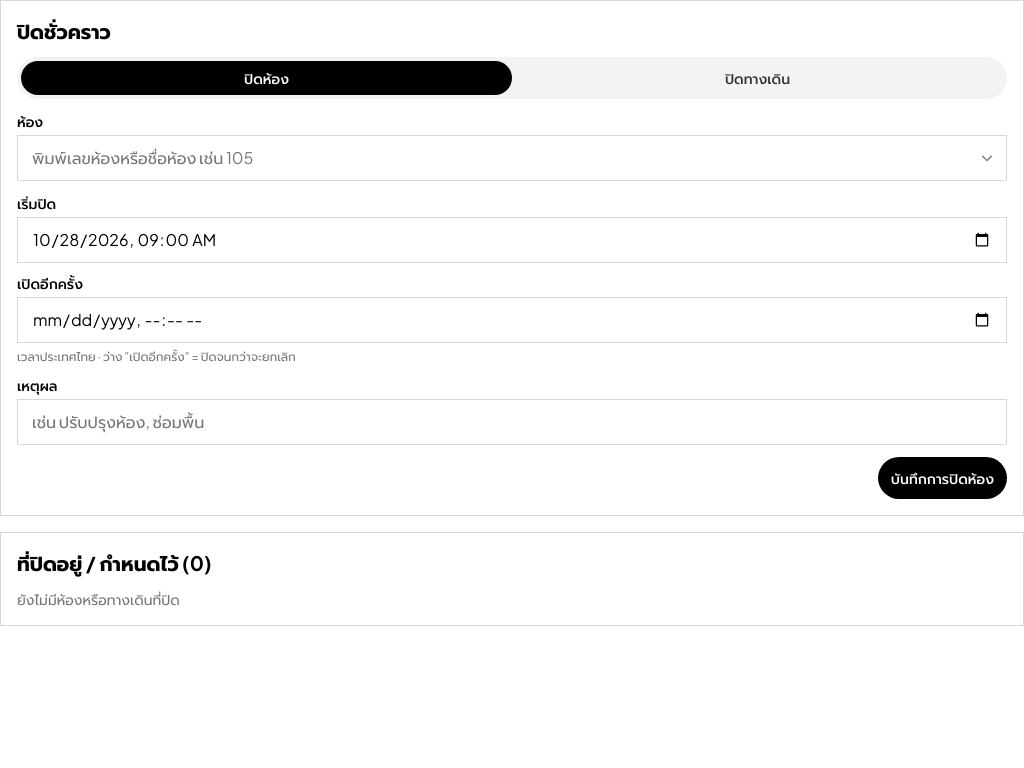
Test case: ClosurePanel › asks for a room before saving
Click the button "บันทึกการปิดห้อง" at (942, 478), box [878,457,1007,499]
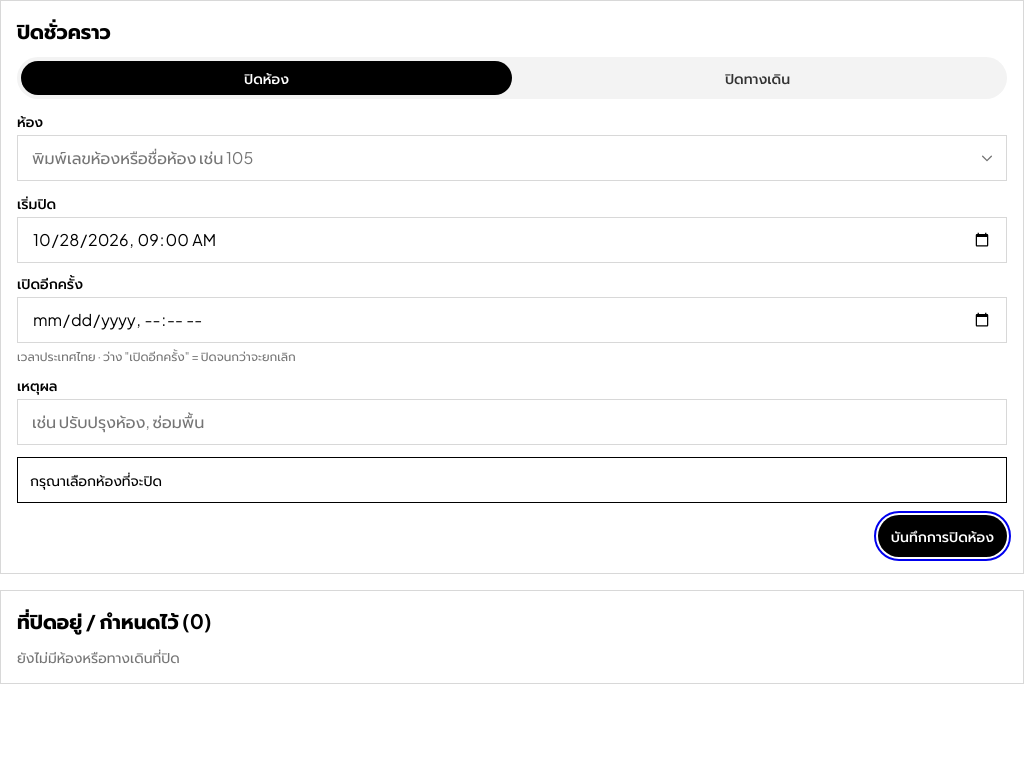
expect the message reads "กรุณาเลือกห้องที่จะปิด": met, box [30,471,162,489]
